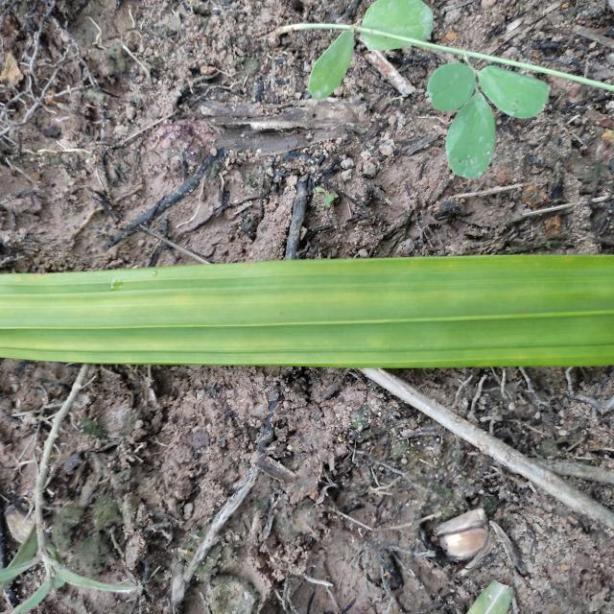nitrogen: (1, 246, 614, 370)
